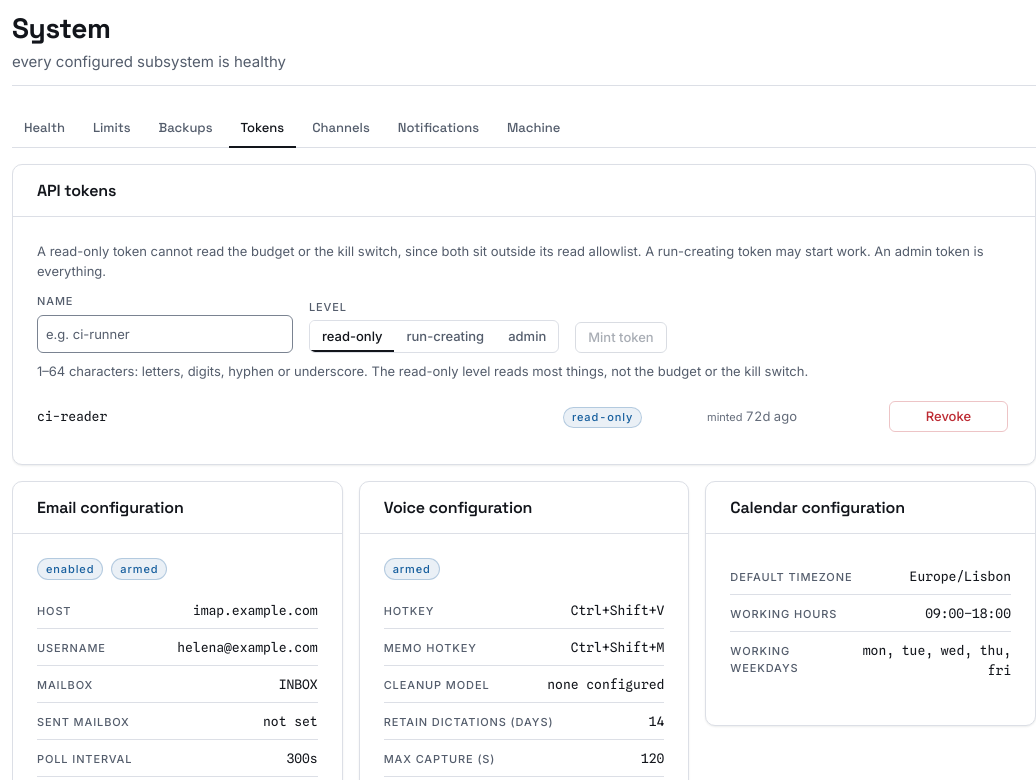
Scenario: System - tokens › refuses a duplicate token name with the daemon's 409 as a value
In the field labelled "Name": point(165, 334) [37,314,293,353], type "ci-reader"
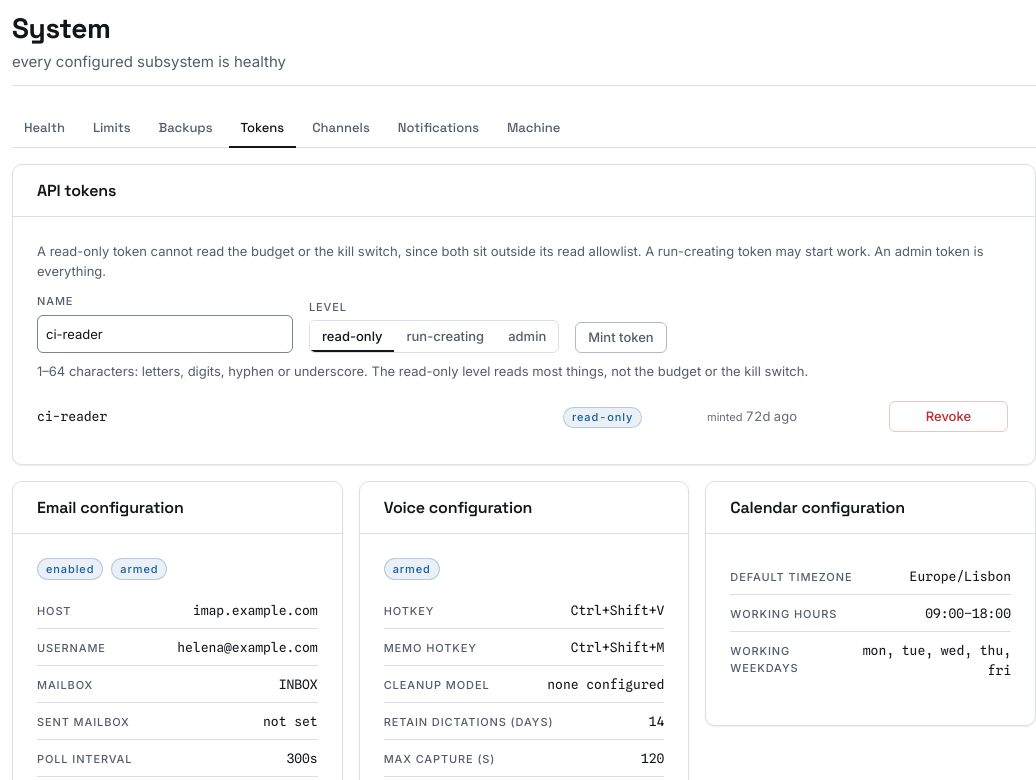
Click the button "Mint token": point(621, 337) [575,322,667,353]
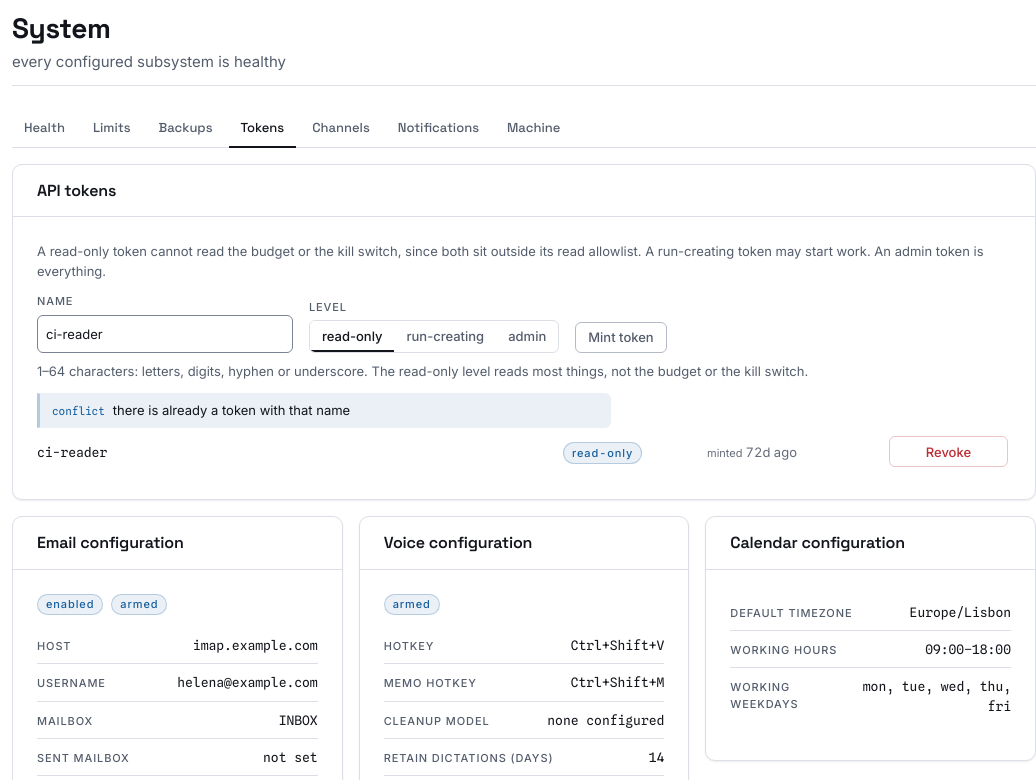
Expected: the text "there is already a token with that name" is shown, [113,402,350,419]
